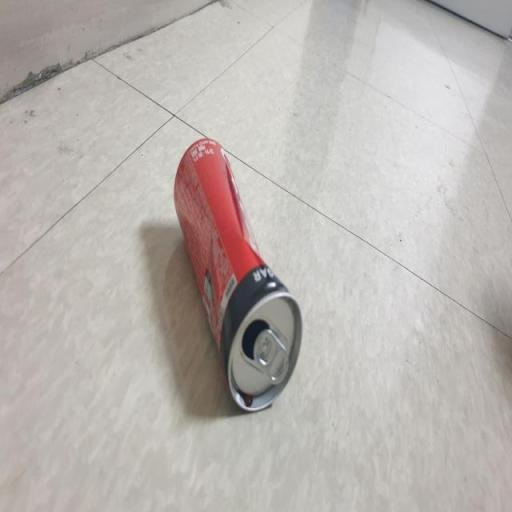metal: (164, 118, 314, 437)
